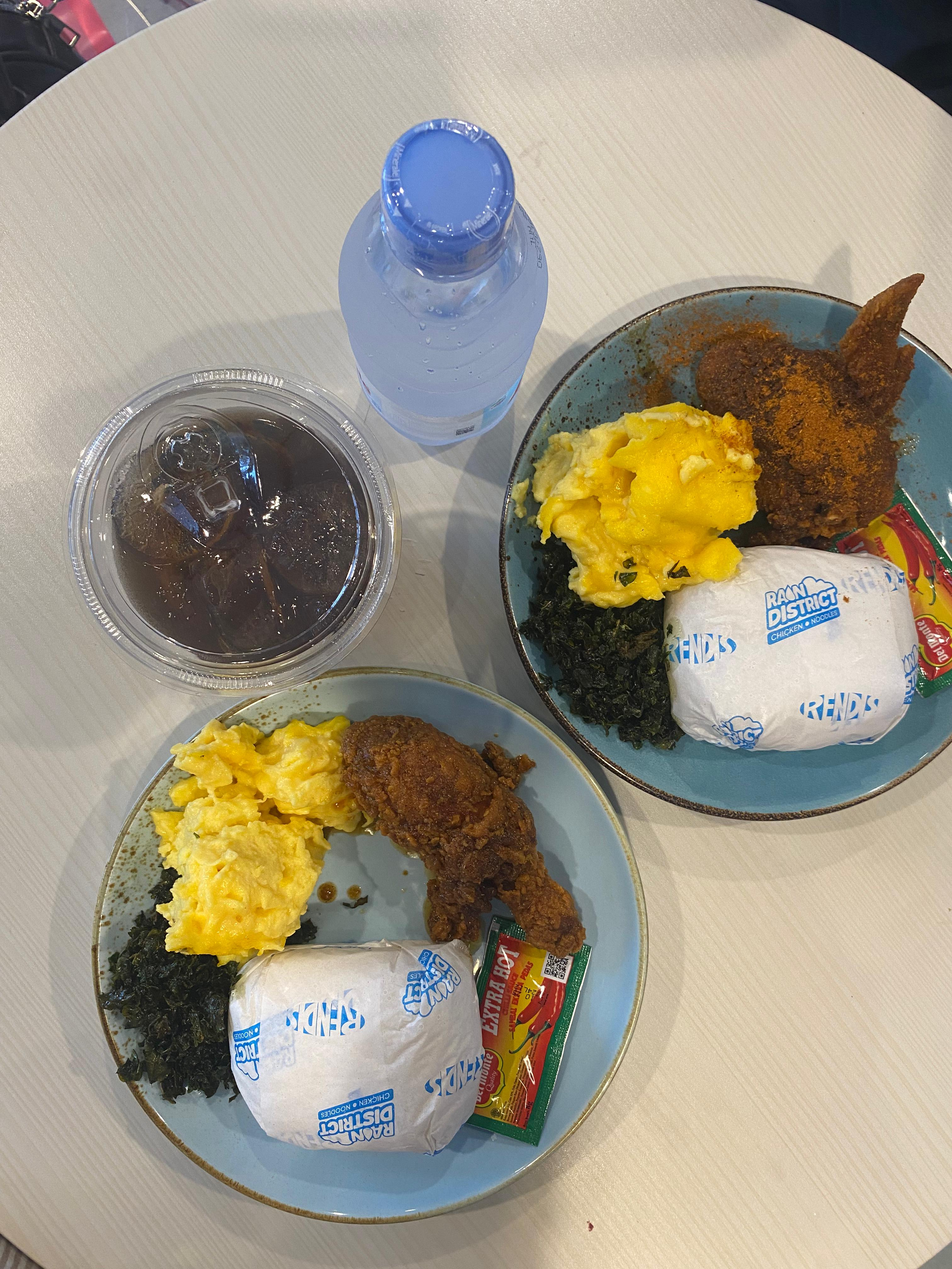buah_sayur_lainnya: (83, 933, 266, 1114), (519, 587, 675, 754)
daging: (370, 713, 541, 936), (741, 348, 904, 538)
